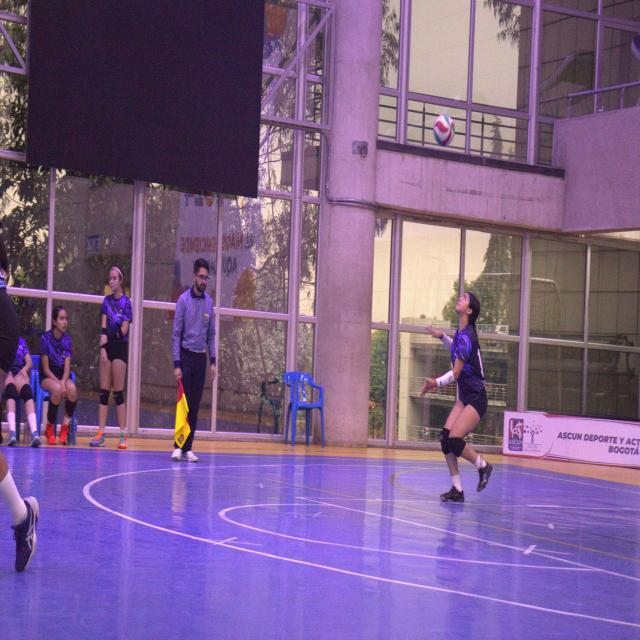volleyball: (434, 114, 454, 148)
